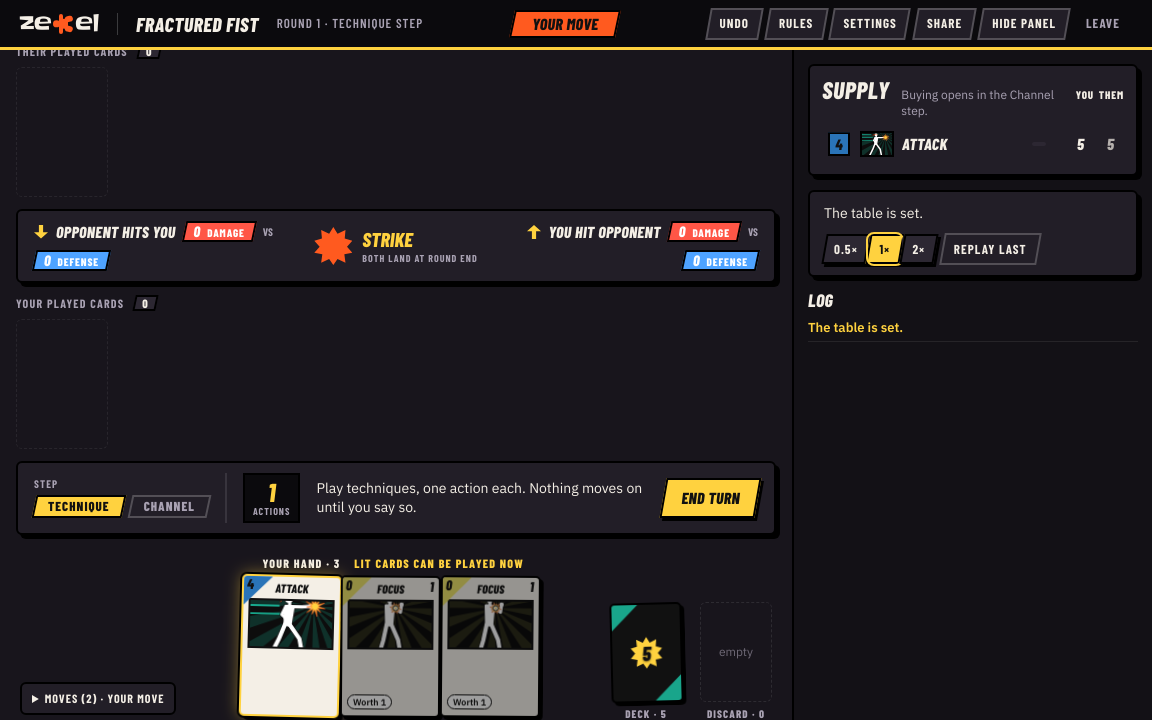
Test: the table page and player agency › an engine fault reads as a server problem, not a rule
(page scrolled)
Click the button named "Attack". click: (291, 646)
box: [239,574,342,718]
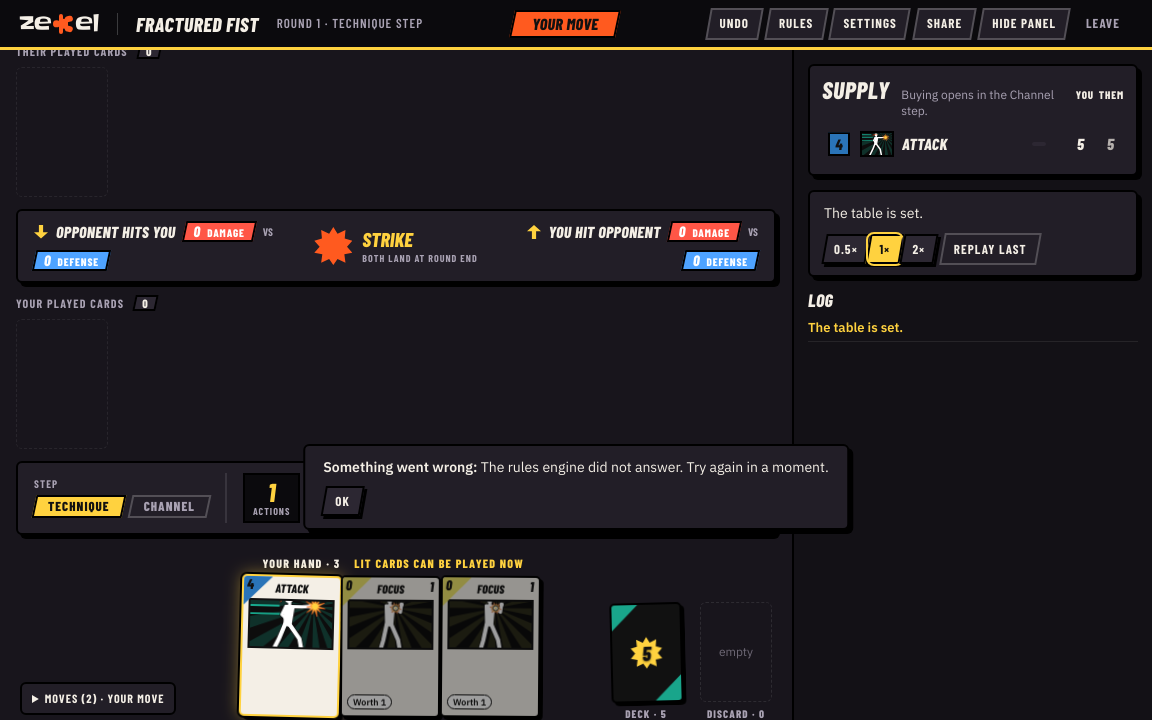
Check: the message shows "Something went wrong", box [323,458,481,476]
